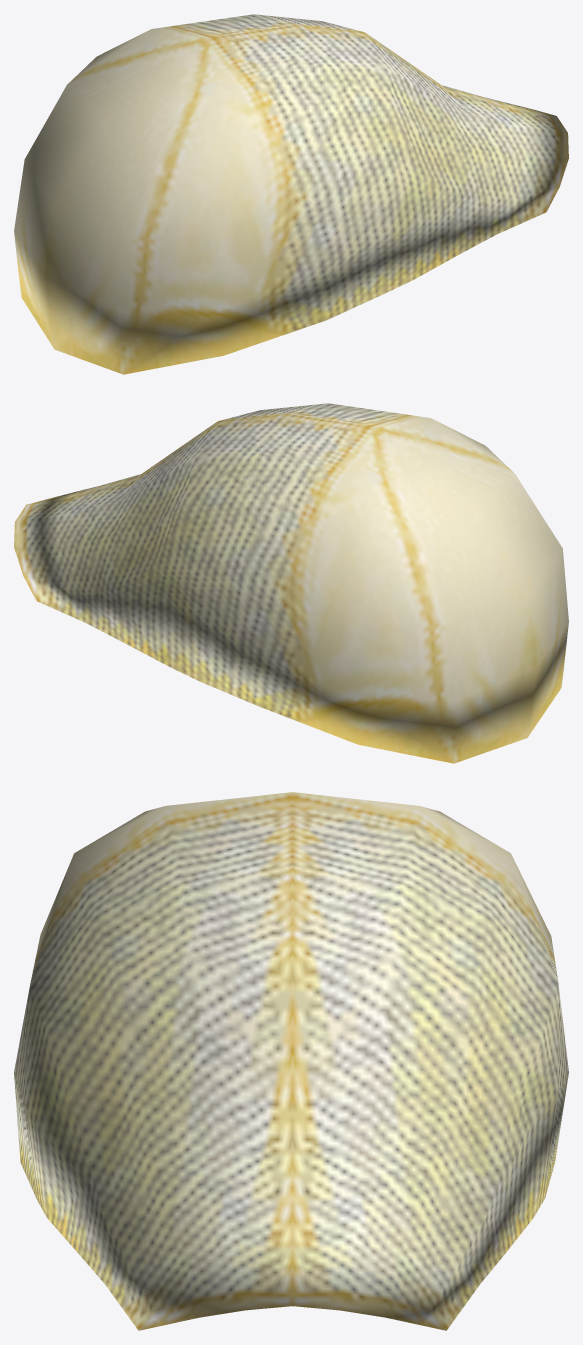
The model's file is hat_0400023.FBX.
3 views of the same model, one above another, from view 1: azimuth 30°, elevation 25°; view 2: azimuth 150°, elevation 25°; view 3: azimuth 270°, elevation 25° (orthographic). The views are drawn at different scales.
Parts seen in each view (by area): view 1: hat_0400023; view 2: hat_0400023; view 3: hat_0400023.
Part boxes in pixels (bbox=[...]): hat_0400023: bbox=[14, 14, 568, 374]; hat_0400023: bbox=[14, 403, 568, 763]; hat_0400023: bbox=[14, 792, 568, 1330].
Bounding box in the file's own units: 37.94 × 19.4 × 23.08.
